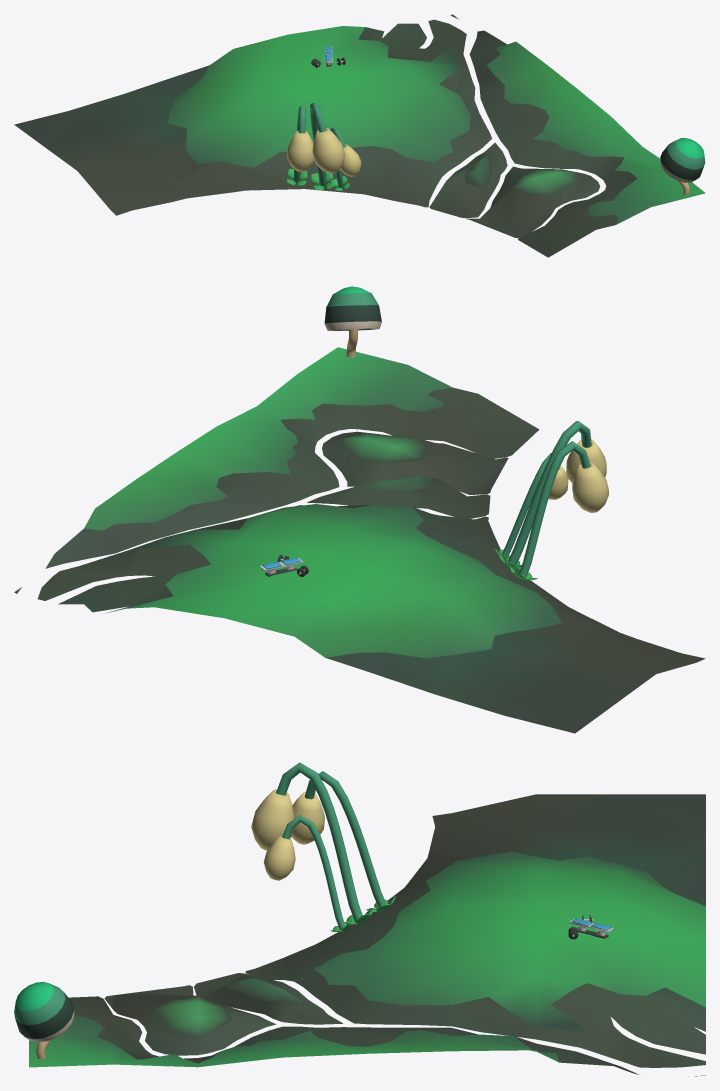
Rendered from LevelB1.fbx.
The picture shows the model from 3 angles, top to bottom: view 1: azimuth 30°, elevation 25°; view 2: azimuth 150°, elevation 25°; view 3: azimuth 270°, elevation 25°; orthographic projection. The views are drawn at different scales.
Parts seen in each view (by area): view 1: GroundB1, Rush.005, MushroomA.011, Rush.004, Rush.006; view 2: GroundB1, Rush.004, Rush.005, MushroomA.011, Rush.006; view 3: GroundB1, Rush.005, MushroomA.011, Rush.004, Rush.006.
Boxes of the visible parts, bbox=[...] form: GroundB1: bbox=[14, 14, 705, 257]; Rush.005: bbox=[310, 103, 345, 190]; MushroomA.011: bbox=[660, 138, 705, 194]; Rush.004: bbox=[286, 106, 314, 186]; Rush.006: bbox=[330, 127, 361, 190]; GroundB1: bbox=[14, 347, 705, 733]; Rush.004: bbox=[510, 441, 608, 580]; Rush.005: bbox=[498, 421, 606, 570]; MushroomA.011: bbox=[324, 286, 381, 357]; Rush.006: bbox=[494, 453, 568, 559]; GroundB1: bbox=[29, 794, 705, 1076]; Rush.005: bbox=[251, 762, 373, 924]; MushroomA.011: bbox=[14, 981, 74, 1059]; Rush.004: bbox=[292, 771, 395, 911]; Rush.006: bbox=[263, 815, 352, 931].
Bounding box in the file's own units: 9089 × 2311 × 9255.
